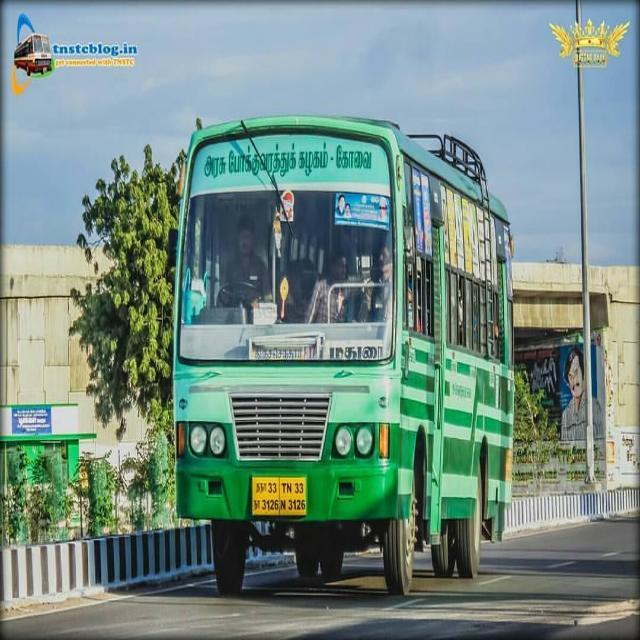Bus: (166, 110, 518, 599)
